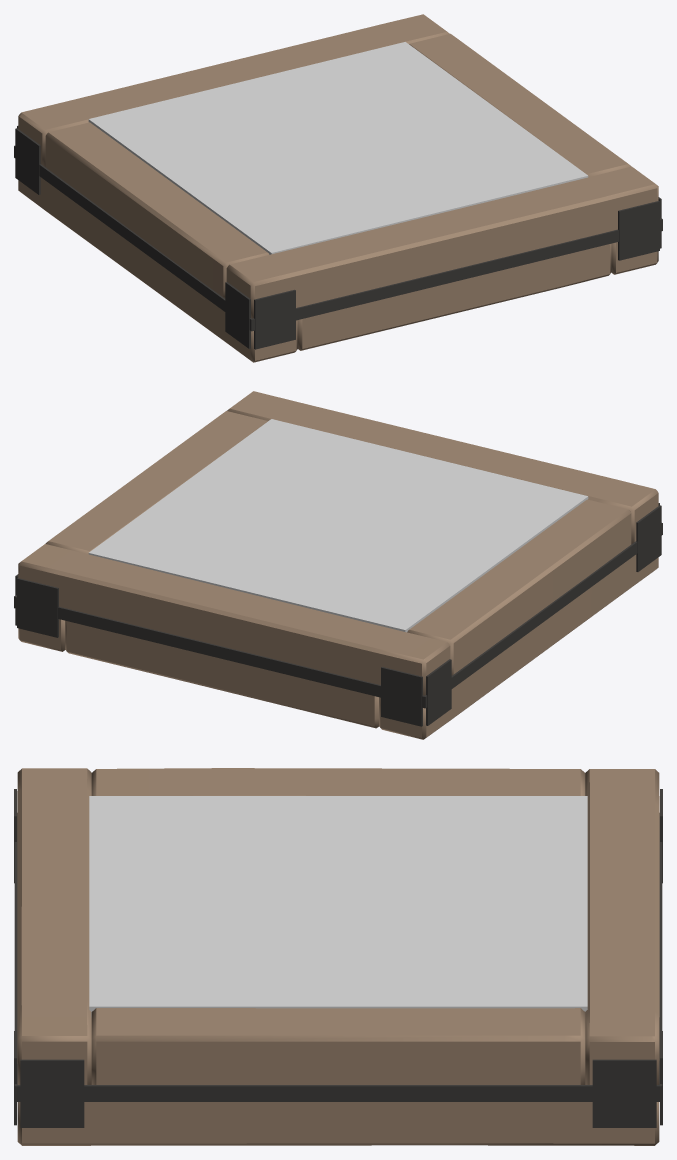
File: Kit_RealTower_R1.fbx
3 views of the same model, one above another, from view 1: azimuth 30°, elevation 25°; view 2: azimuth 150°, elevation 25°; view 3: azimuth 270°, elevation 25° (orthographic). The views are drawn at different scales.
Parts seen in each view (by area): view 1: Kit_RealTower_R1_LOD0; view 2: Kit_RealTower_R1_LOD0; view 3: Kit_RealTower_R1_LOD0.
Part boxes in pixels (x1,y1,x2,y2): Kit_RealTower_R1_LOD0: [14, 14, 662, 362]; Kit_RealTower_R1_LOD0: [14, 391, 662, 739]; Kit_RealTower_R1_LOD0: [14, 768, 662, 1145].
Size of what is drawn, in the model's own units: 2.63 by 0.4963 by 2.63.
